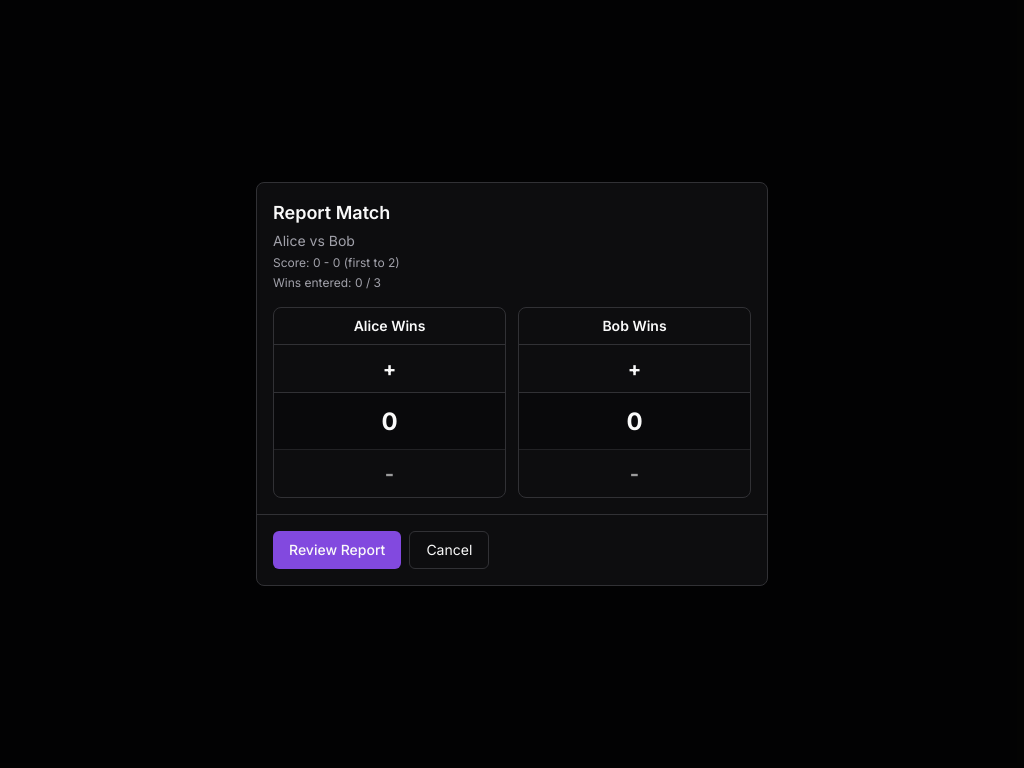
ReportMatchDialog › shows draw confirmation on equal wins
Click the button "+" below "Alice Wins" at (390, 369), box [274, 345, 505, 393]
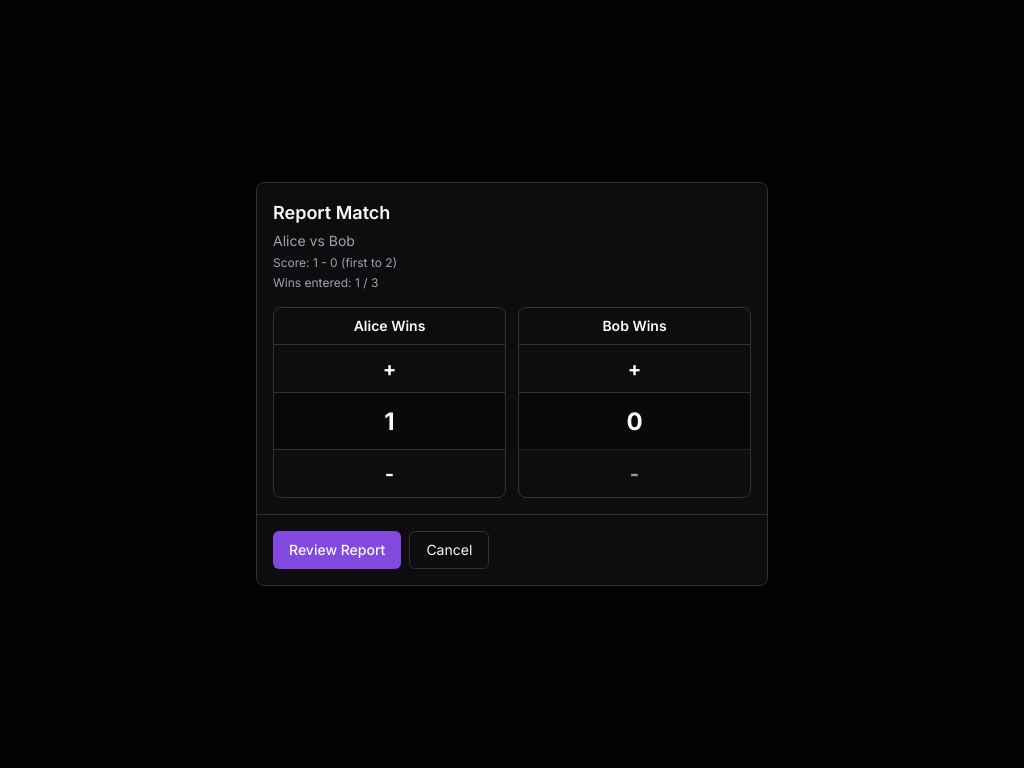
Click the button "+" below "Bob Wins" at (634, 369), box [519, 345, 750, 393]
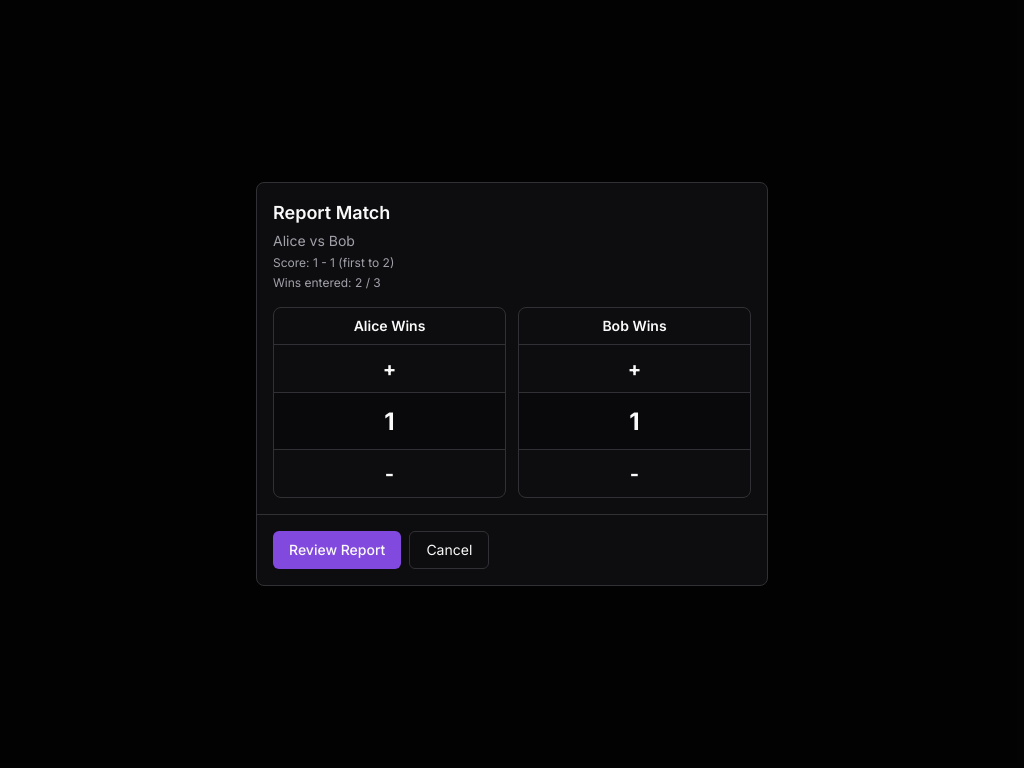
Click the button "Review Report" at (337, 550), box [273, 531, 401, 569]
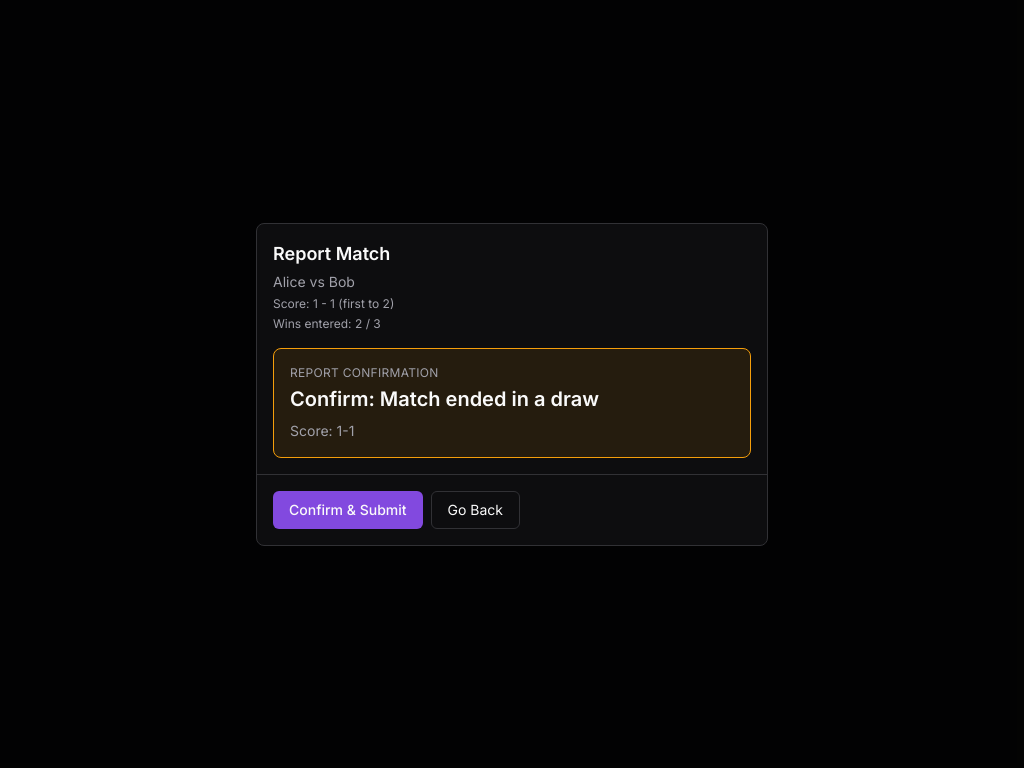
Now the text "Confirm: Match ended in a draw" is shown, box [290, 386, 599, 410]
